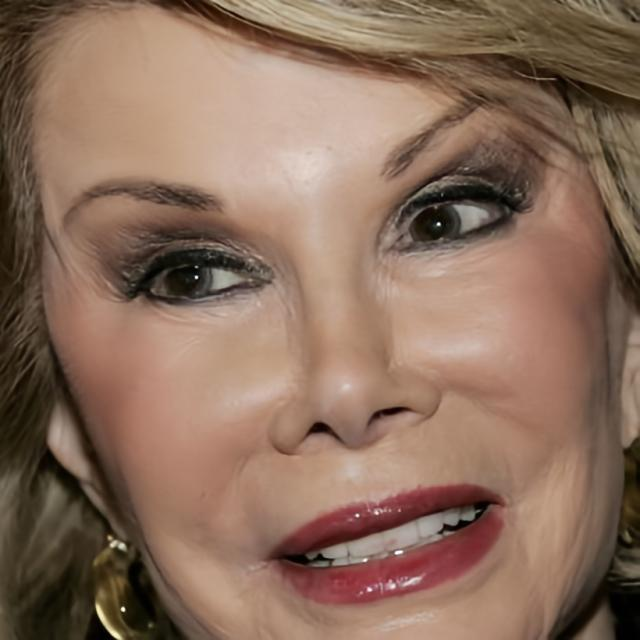content: (38, 2, 621, 640)
